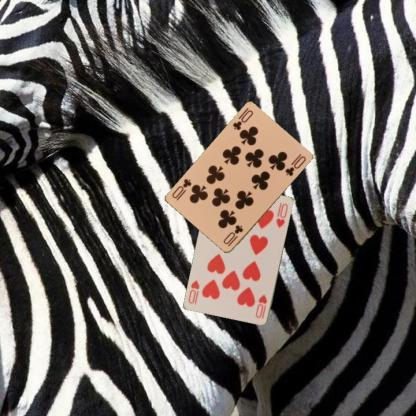10c: (230, 107, 254, 132), (221, 222, 244, 248)
10h: (253, 292, 269, 320)
